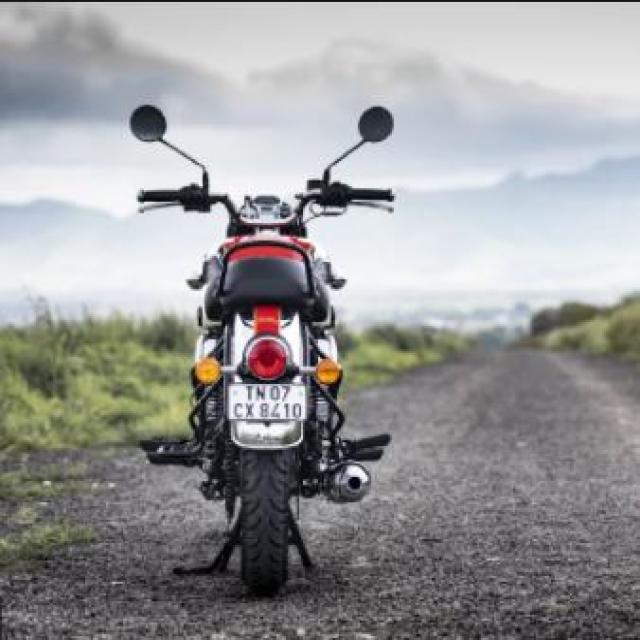number plate: (225, 380, 307, 421)
